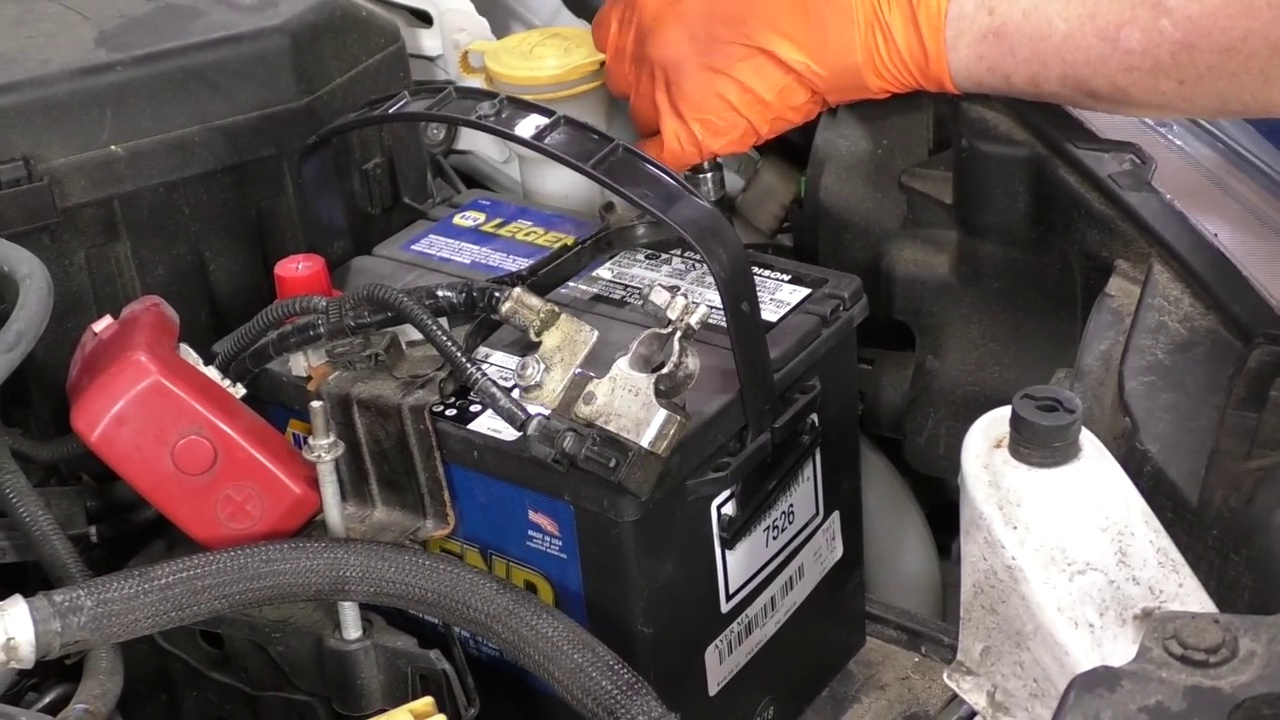battery: (197, 169, 861, 519)
